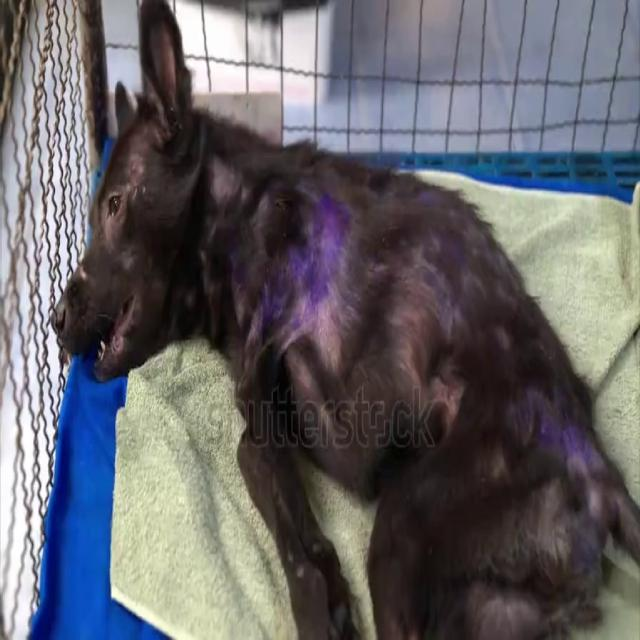injured-animals: (46, 3, 636, 636)
